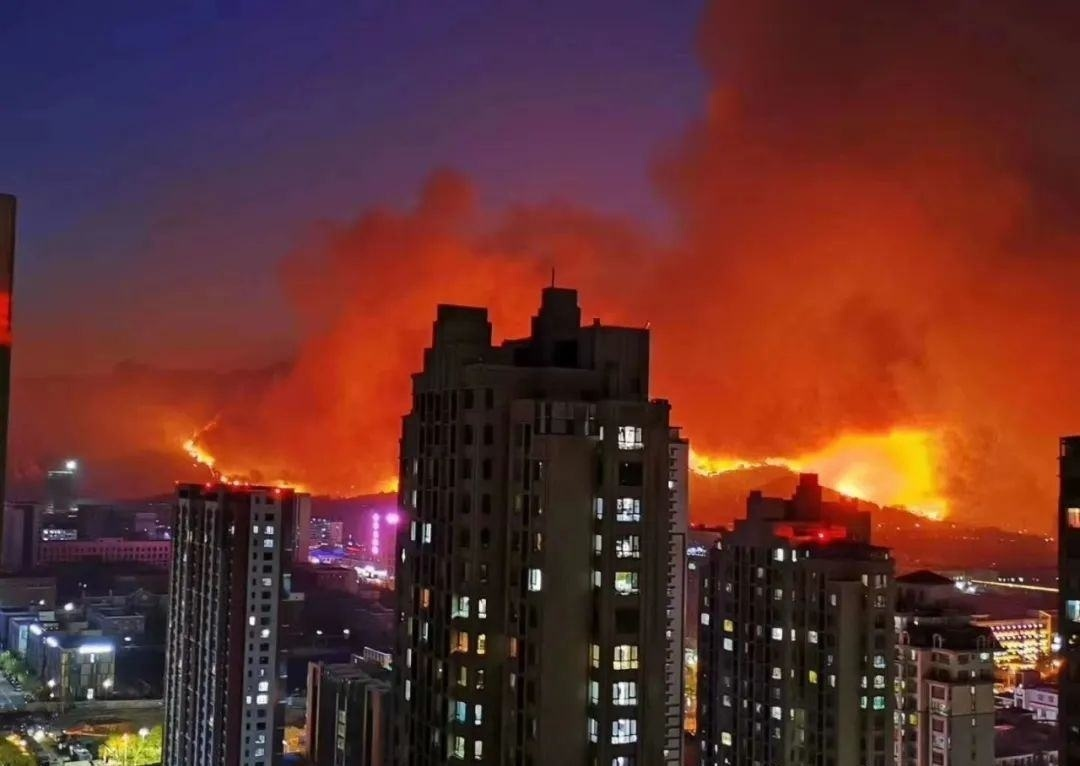fire: (685, 425, 956, 516), (177, 424, 321, 494)
